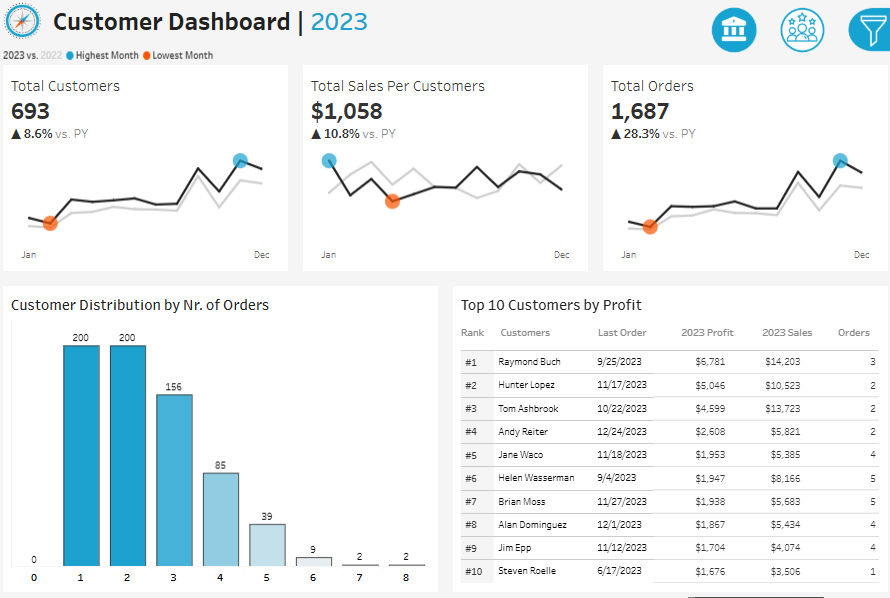

Layout of this report page (visuals, bound fields, positions):
{"tool":"tableau","page":{"name":"Customer Dashboard","canvas":[1200,800],"ordinal":0},"visuals":[{"type":"image","param":"Image/Icon - Logo.png","box":[0,0,73,59]},{"type":"text","box":[73,0,820,59]},{"type":"dashboard-object","box":[940,6,91,70]},{"type":"dashboard-object","box":[1031,6,91,70]},{"type":"blank","box":[952,10,237,86]},{"type":"worksheet","title":"Legend KPI","mark":"Automatic","box":[0,59,1200,29]},{"type":"worksheet","title":"KPI Customers","mark":"Automatic","rows":["Min/Max Quantity (copy)_3221481164588691468"],"cols":["Order Date"],"box":[0,88,400,284]},{"type":"worksheet","title":"KPI Sales Per Customers","mark":"Automatic","rows":["Min/Max Quantity (copy)_3221481164537155591"],"cols":["Order Date"],"box":[400,88,400,284]},{"type":"worksheet","title":"KPI Orders","mark":"Automatic","rows":["Min/Max Sales (copy)_3221481164601258003"],"cols":["Order Date"],"box":[800,88,400,284]},{"type":"text","box":[952,96,237,37]},{"type":"parameter","param":"[Parameters].[Parameter 1]","box":[952,133,237,55]},{"type":"text","box":[952,188,237,32]},{"type":"filter","title":"KPI Customers","param":"[federated.1kpxa041aiai2y1cl4pui1t4eju9].[none:Category:nk]","box":[952,220,237,57]},{"type":"filter","title":"KPI Customers","param":"[federated.1kpxa041aiai2y1cl4pui1t4eju9].[none:Sub-Category:nk]","box":[952,277,237,57]},{"type":"blank","box":[952,334,237,60]},{"type":"text","box":[17,389,566,34]},{"type":"text","box":[617,389,566,34]},{"type":"text","box":[952,394,237,32]},{"type":"worksheet","title":"Customer Distribution","mark":"Bar","rows":["CY Sales (copy)_3221481164532666369"],"cols":["Calculation_998110323739992064"],"box":[17,423,566,360]},{"type":"text","box":[617,423,53,40]},{"type":"text","box":[670,423,130,40]},{"type":"text","box":[800,423,111,40]},{"type":"text","box":[911,423,108,40]},{"type":"text","box":[1019,423,101,40]},{"type":"text","box":[1120,423,63,40]},{"type":"filter","title":"KPI Customers","param":"[federated.1kpxa041aiai2y1cl4pui1t4eju9].[none:Region:nk]","box":[952,426,237,57]},{"type":"worksheet","title":"Top Customers","mark":"Automatic","rows":["Calculation_782500491678904334","Customer Name","Order Date"],"box":[617,463,566,320]},{"type":"filter","title":"KPI Customers","param":"[federated.1kpxa041aiai2y1cl4pui1t4eju9].[none:State:nk]","box":[952,483,237,57]},{"type":"filter","title":"KPI Customers","param":"[federated.1kpxa041aiai2y1cl4pui1t4eju9].[none:City:nk]","box":[952,540,237,57]}]}

Visuals, with their boxes in screenshot pixels (x1, y1, x2, y2), scaled from the page's 1200x800 canvas onto the 890x598 screenshot:
image: 0/0/54/44
text: 54/0/662/44
dashboard-object: 697/4/765/57
dashboard-object: 765/4/832/57
blank: 706/7/882/72
"Legend KPI" worksheet: 0/44/889/66
"KPI Customers" worksheet: 0/66/297/278
"KPI Sales Per Customers" worksheet: 297/66/593/278
"KPI Orders" worksheet: 593/66/889/278
text: 706/72/882/99
parameter: 706/99/882/141
text: 706/141/882/164
"KPI Customers" filter: 706/164/882/207
"KPI Customers" filter: 706/207/882/250
blank: 706/250/882/295
text: 13/291/432/316
text: 458/291/877/316
text: 706/295/882/318
"Customer Distribution" worksheet (Bar marks): 13/316/432/585
text: 458/316/497/346
text: 497/316/593/346
text: 593/316/676/346
text: 676/316/756/346
text: 756/316/831/346
text: 831/316/877/346
"KPI Customers" filter: 706/318/882/361
"Top Customers" worksheet: 458/346/877/585
"KPI Customers" filter: 706/361/882/404
"KPI Customers" filter: 706/404/882/446
